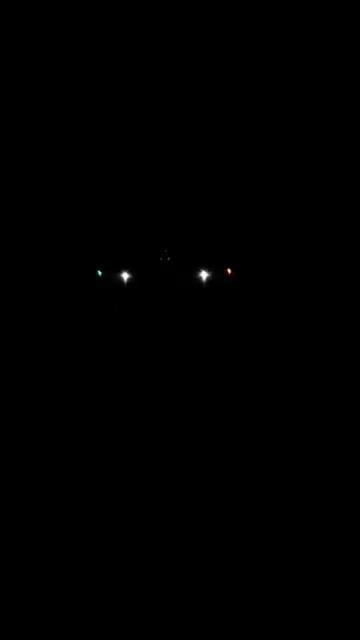Plane: (77, 234, 238, 319)
